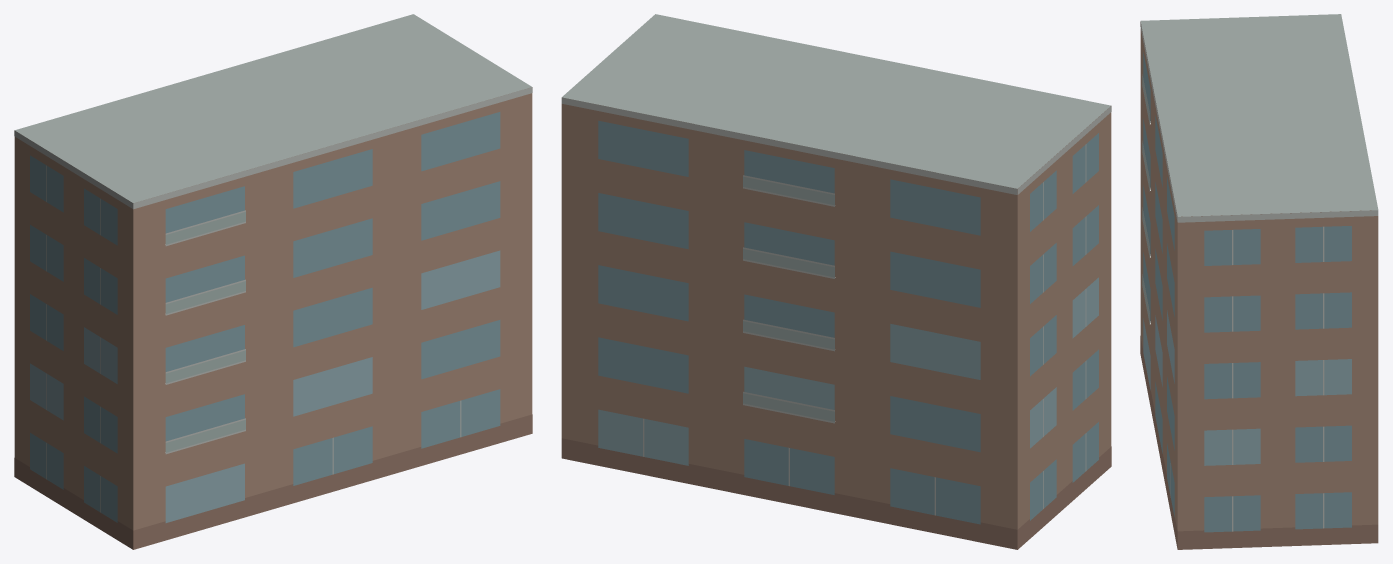
The model's file is survey-upis-33002651.glb.
3 views of the same model, side by side, from view 1: azimuth 30°, elevation 25°; view 2: azimuth 150°, elevation 25°; view 3: azimuth 270°, elevation 25° (orthographic). The views are drawn at different scales.
Parts seen in each view (by area): view 1: survey-upis-33002651.tmp; view 2: survey-upis-33002651.tmp; view 3: survey-upis-33002651.tmp.
Part boxes in pixels (bbox=[...]): survey-upis-33002651.tmp: bbox=[14, 14, 532, 549]; survey-upis-33002651.tmp: bbox=[561, 14, 1111, 549]; survey-upis-33002651.tmp: bbox=[1140, 14, 1378, 549].
Bounding box in the file's own units: 18.17 × 13.9 × 9.01.
